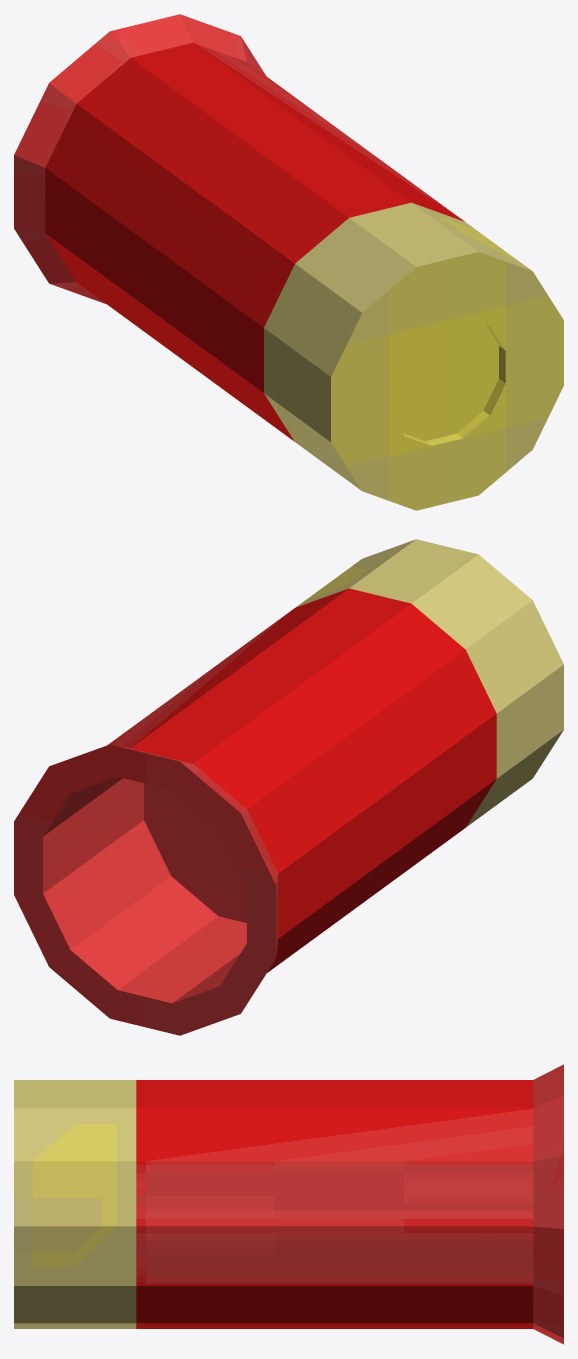
Rendered from buckshot_shell_case.glb.
3 renders of one model, top to bottom at view 1: azimuth 30°, elevation 25°; view 2: azimuth 150°, elevation 25°; view 3: azimuth 270°, elevation 25°, orthographic. The views are drawn at different scales.
Visible parts, largest first — view 1: cylinder; view 2: cylinder; view 3: cylinder.
Boxes of the visible parts, x1,y1,x2,y2 form: cylinder: [14, 14, 563, 510]; cylinder: [14, 539, 563, 1035]; cylinder: [14, 1064, 563, 1344].
Size of the model in its own units: 0.2812 by 0.2812 by 0.5625.
Materials: 1 (1 with a texture image).
